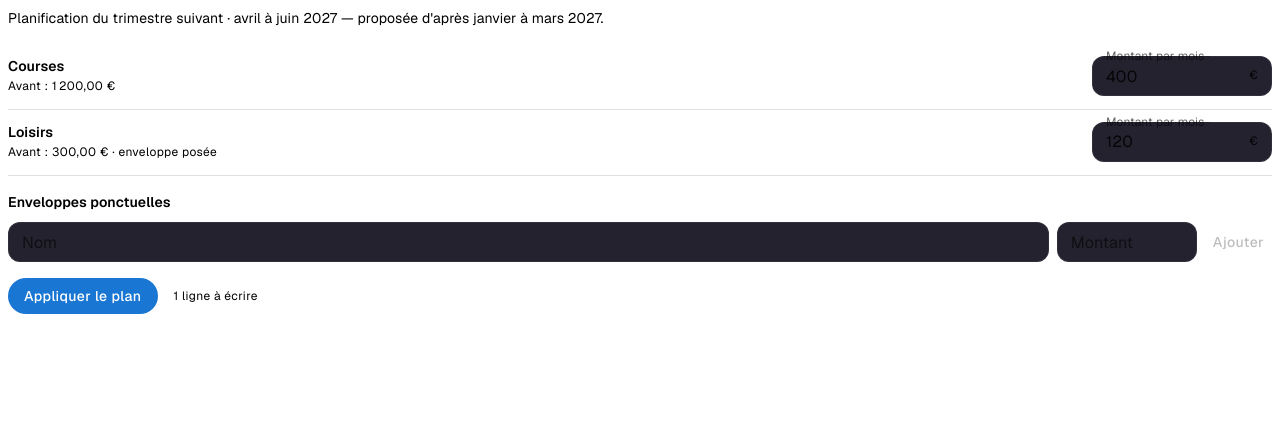
Test case: PeriodPlanStep › a refused plan says which line and that nothing was written, and can be applied again
Step 1. Type "Escapade" into the field labelled "Nom" → [528, 242], box x1=8 y1=222 x2=1049 y2=262
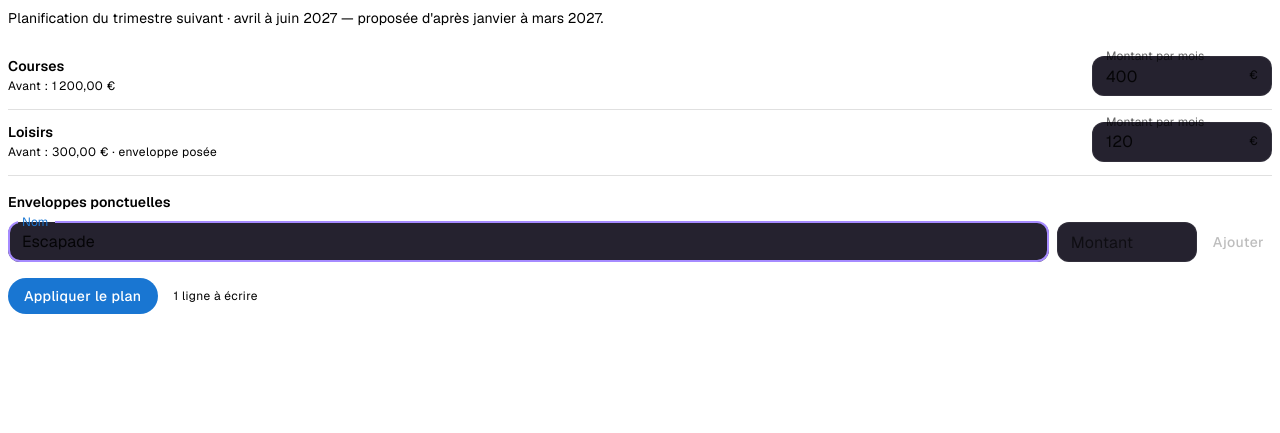
Step 2. Type "450" into the number field labelled "Montant" → [1127, 242], box x1=1057 y1=222 x2=1197 y2=262
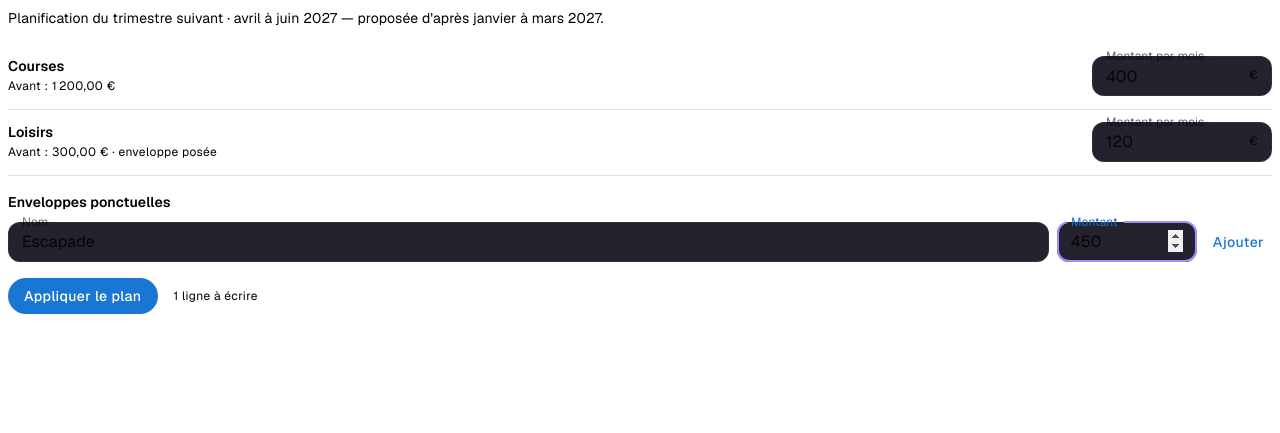
Step 3. Click the button "Ajouter" → [1238, 242], box x1=1205 y1=222 x2=1272 y2=262
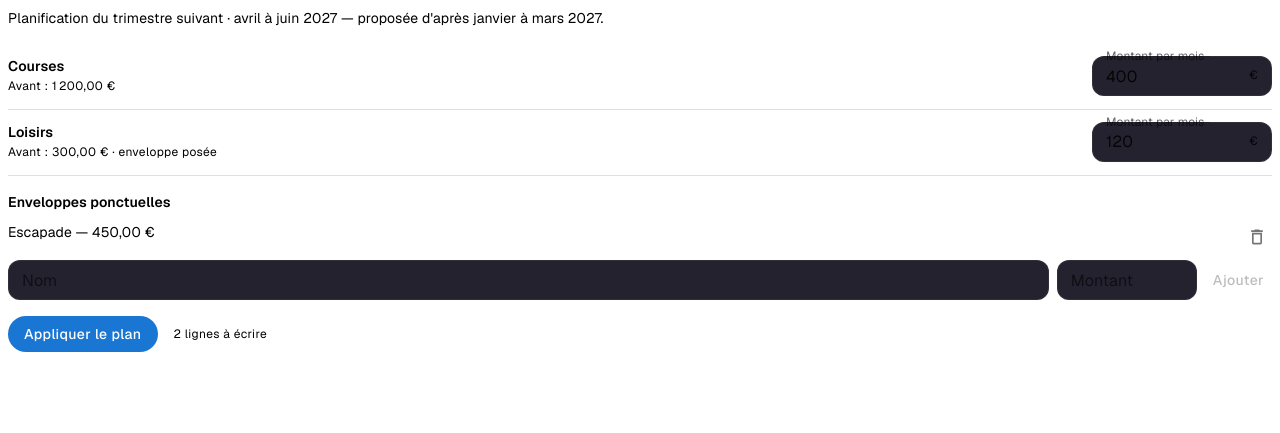
Step 4. Click the button "Appliquer le plan" → [83, 334], box x1=8 y1=316 x2=158 y2=352
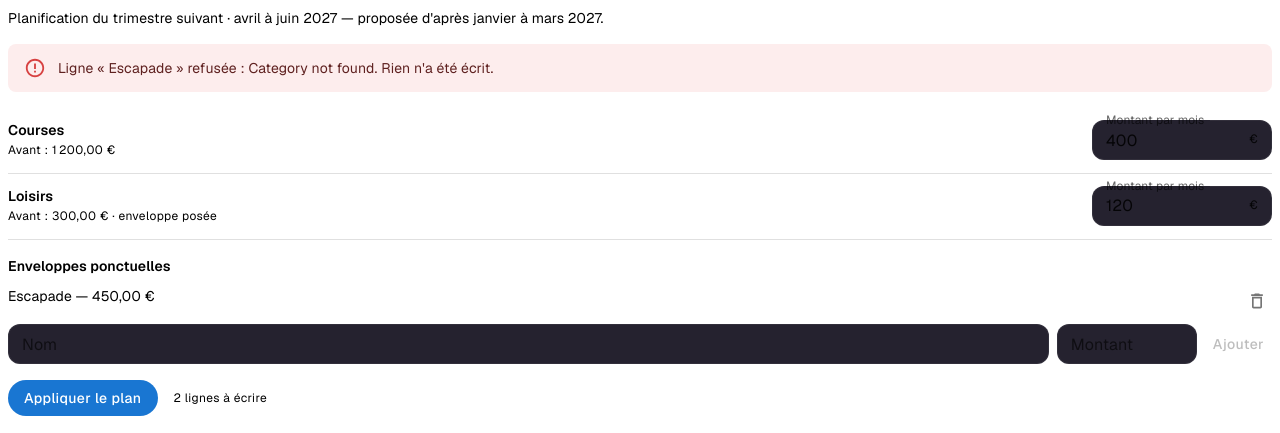
Expected: the button "Appliquer le plan" is enabled, x1=8 y1=380 x2=158 y2=416
Expected: the element with test id "plan-one-off" is shown, x1=8 y1=286 x2=1272 y2=316
Expected: the message with test id "plan-error" reads "Ligne « Escapade » refusée : Category not found. Rien n'a été écrit.", x1=8 y1=44 x2=1272 y2=92
